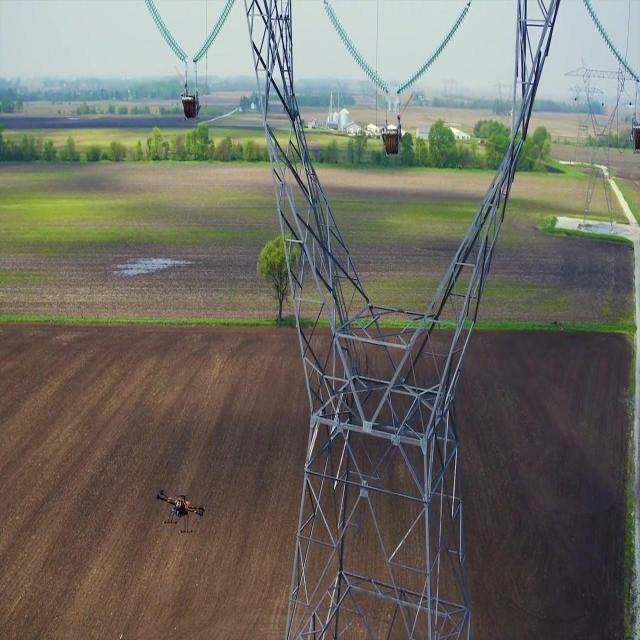UAV: (156, 490, 207, 532)
